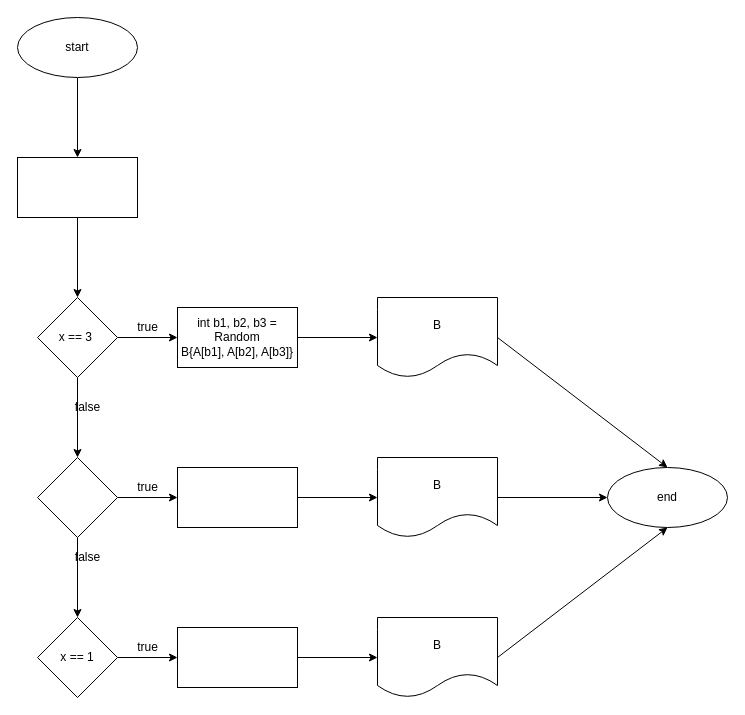
Some shapes in this 745 by 715 pixel diagram are drawn without their labels. Each missing label, with the centre of its shape:
"A{a, b, c, d, e, f} int x = Random" goes at point (77, 187).
"int b1 = Random B{A[b1]}" goes at point (237, 657).
"int b1, b2 = Random B{A[b1], A[b2]}" goes at point (237, 497).
"x == 2" goes at point (77, 497).
